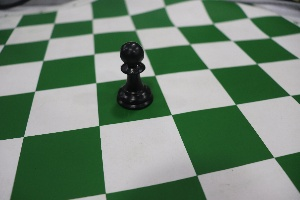black_pawn: (111, 30, 156, 116)
